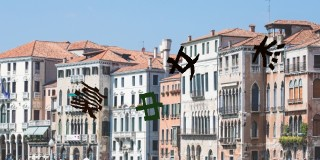中: (134, 91, 165, 121)
女: (164, 43, 200, 79)
杰: (252, 36, 285, 70)
豪: (70, 79, 108, 119)
